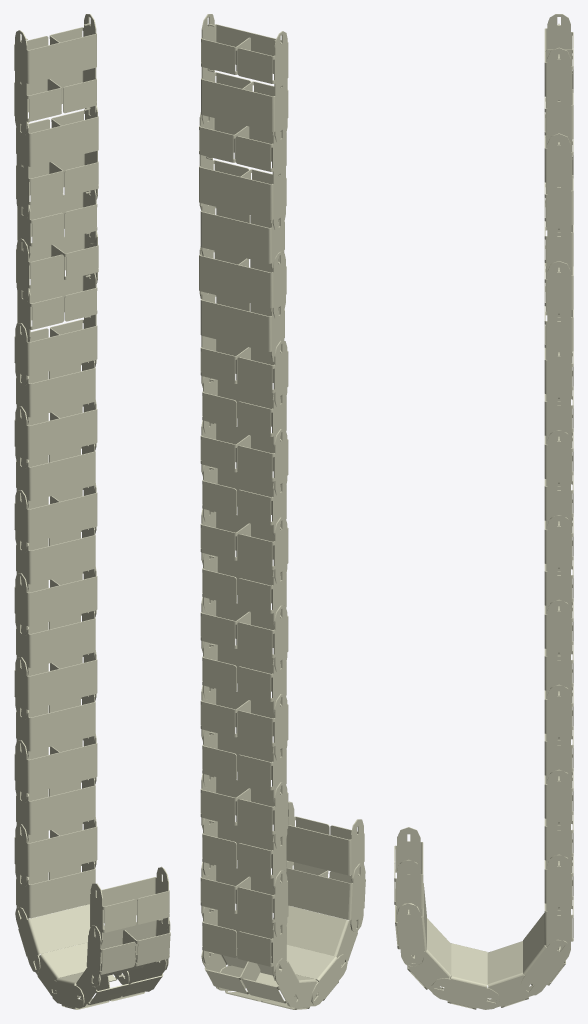
Rendered from KUAC650000_ALT.glb.
3 renders of one model, left to right at view 1: azimuth 30°, elevation 25°; view 2: azimuth 150°, elevation 25°; view 3: azimuth 270°, elevation 25°, orthographic. The views are drawn at different scales.
Parts seen in each view (by area): view 1: KUAC650000_ALT_0; view 2: KUAC650000_ALT_0; view 3: KUAC650000_ALT_0.
Part boxes in pixels (x1,y1,x2,y2): KUAC650000_ALT_0: [14, 14, 170, 1009]; KUAC650000_ALT_0: [199, 14, 365, 1009]; KUAC650000_ALT_0: [394, 14, 573, 1009].
Size of the model in its own units: 0.0717 by 0.9066 by 0.1534.
